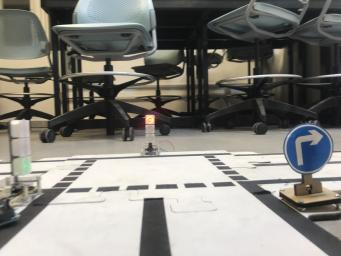right: (280, 123, 341, 208), (280, 123, 341, 208)
street: (0, 151, 325, 255), (0, 151, 325, 255)
traffic_light: (6, 120, 41, 207), (6, 120, 41, 207), (141, 115, 159, 156), (141, 115, 159, 156)
